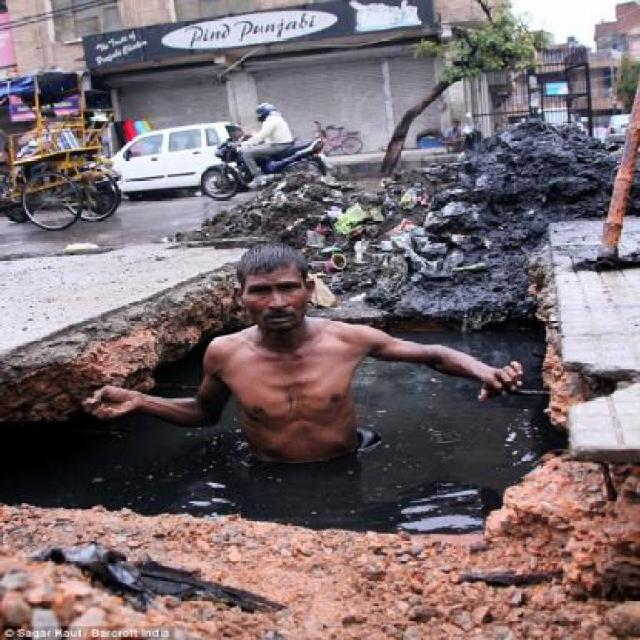garbage: (303, 180, 430, 263)
